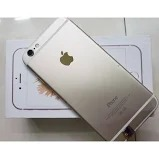iphone: (20, 18, 159, 142)
iphone6: (20, 18, 159, 142)
